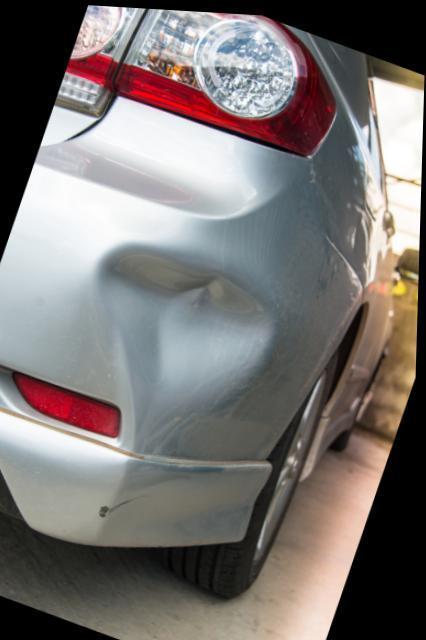dent: (97, 244, 277, 454)
scratch: (98, 491, 156, 522)
